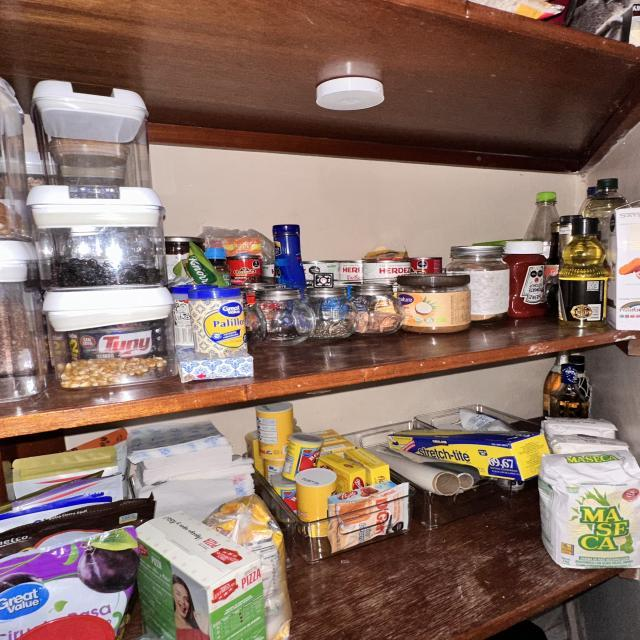hidden camera: (319, 277, 328, 284)
